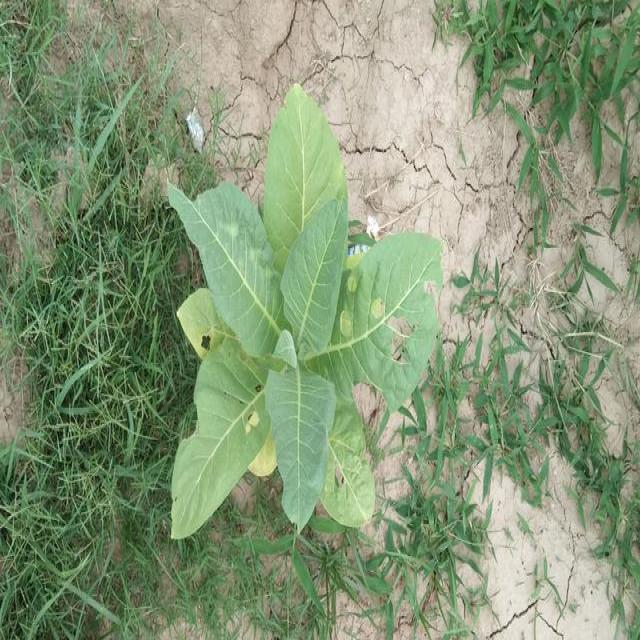crop: (161, 74, 445, 566)
